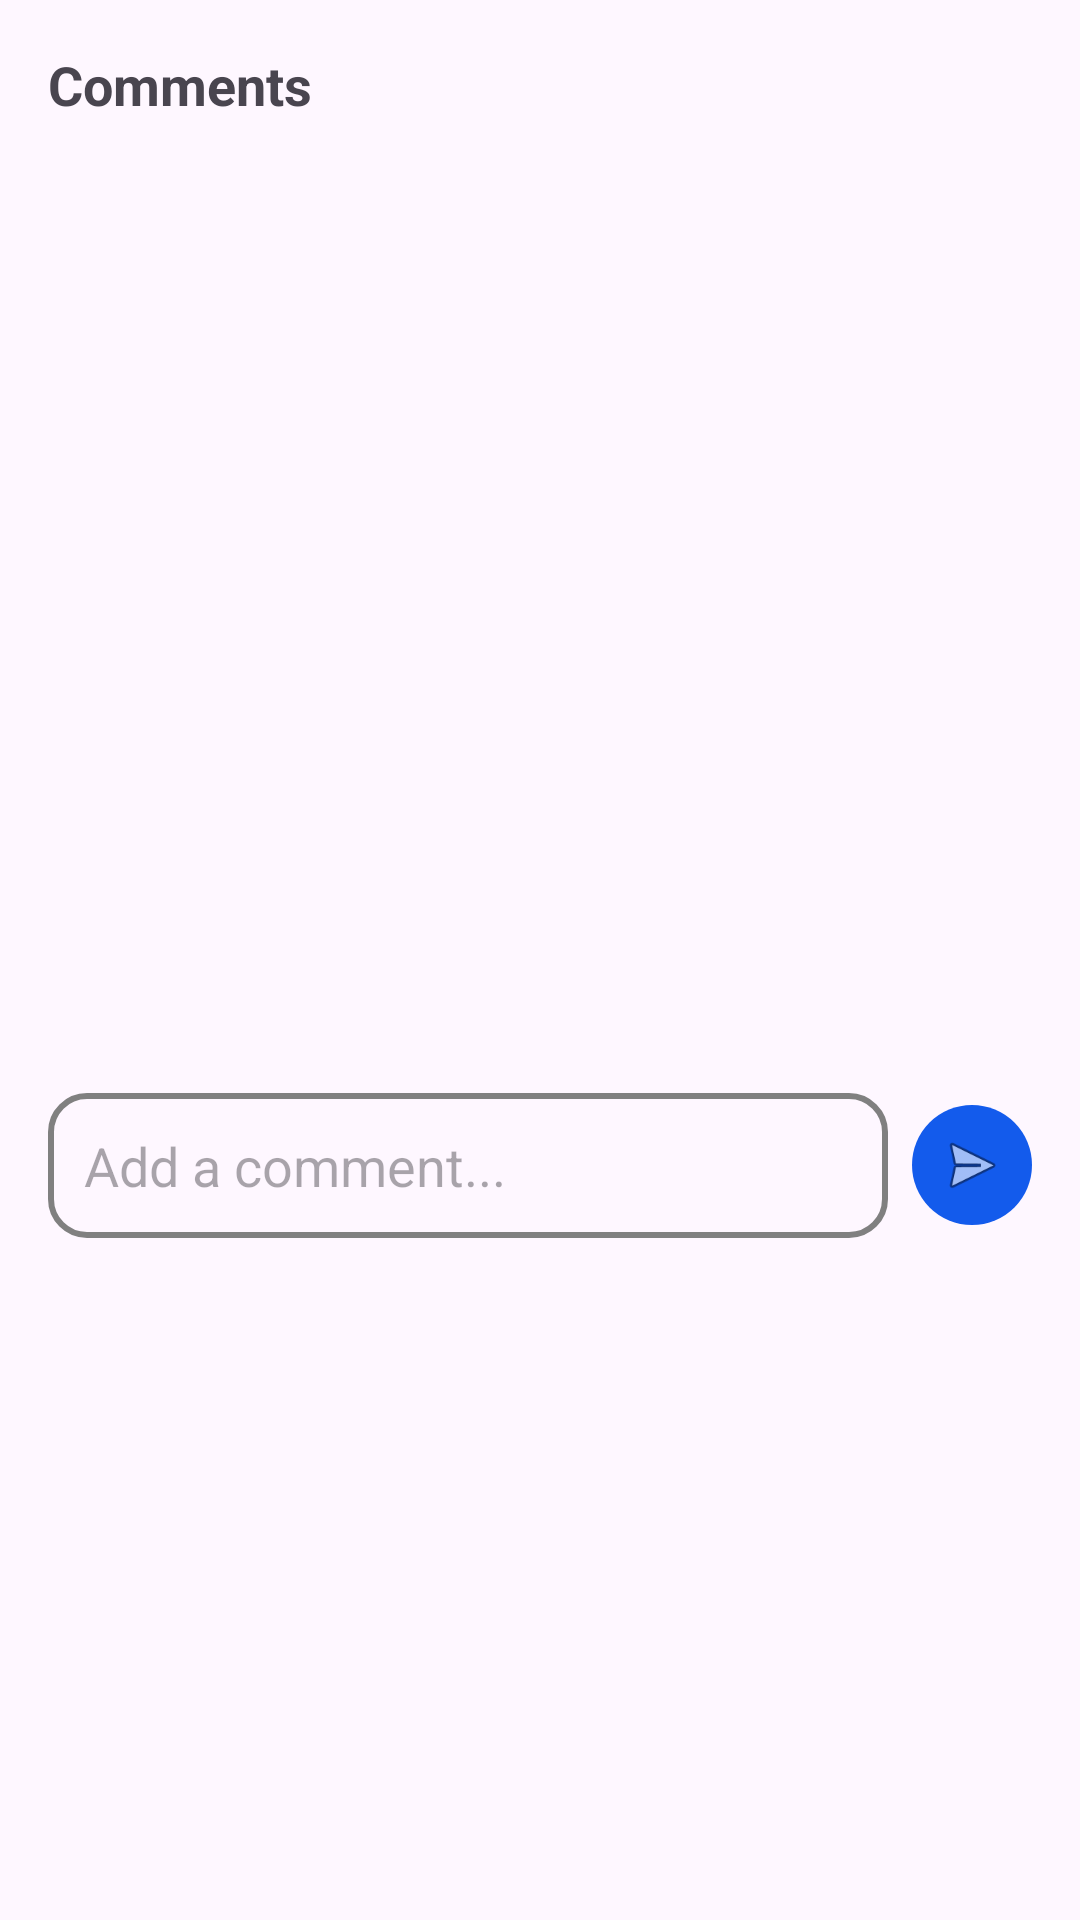

Named icons in this screenshot (1080px×1920px) and their bounding boxes, (x1, y1, x2, y2):
send: (912, 1105, 1032, 1225)
